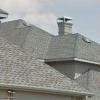Chimney: (51, 9, 76, 35)
